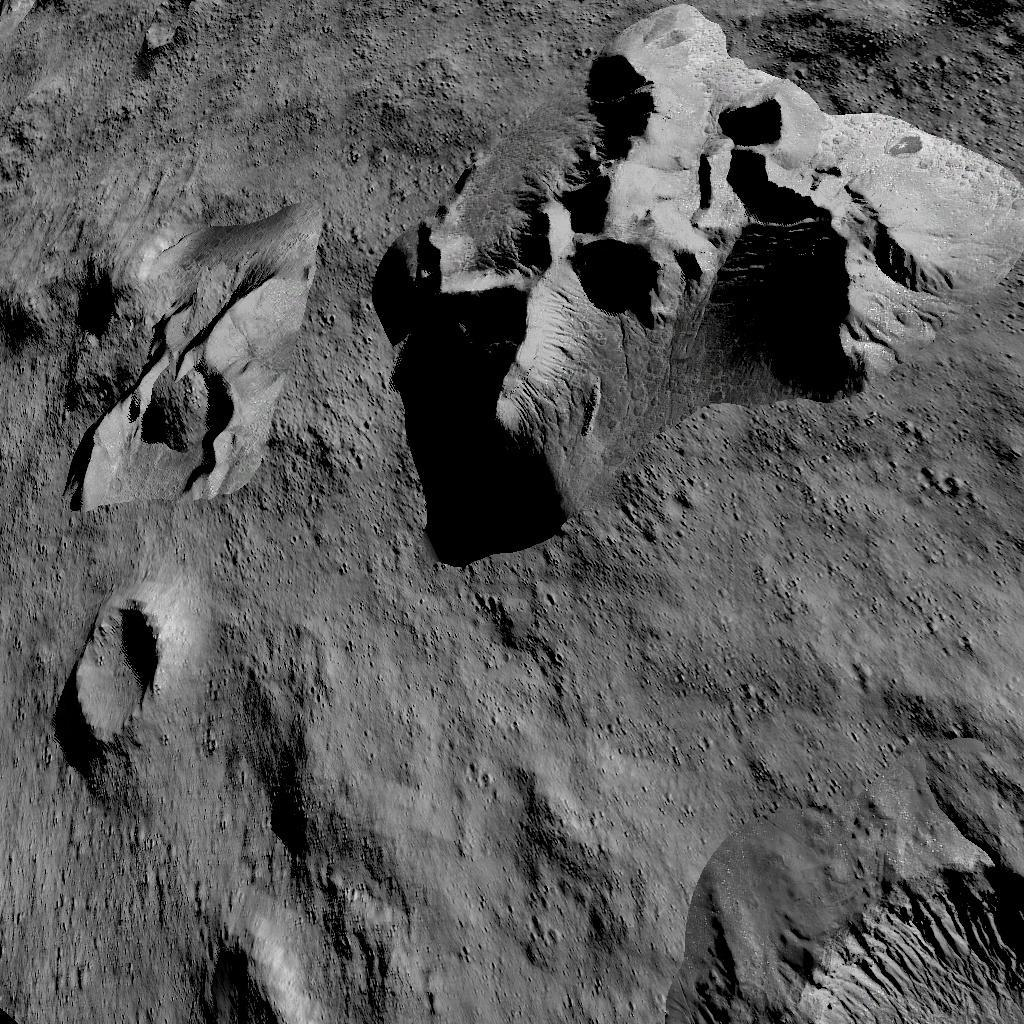Boulders: (364, 0, 1024, 567)
Crater: (0, 250, 288, 524), (756, 849, 1024, 1024), (36, 580, 187, 800), (140, 0, 226, 85), (0, 0, 88, 56)
Plan surface: (216, 601, 721, 1024), (746, 584, 1024, 808), (7, 96, 328, 235)
